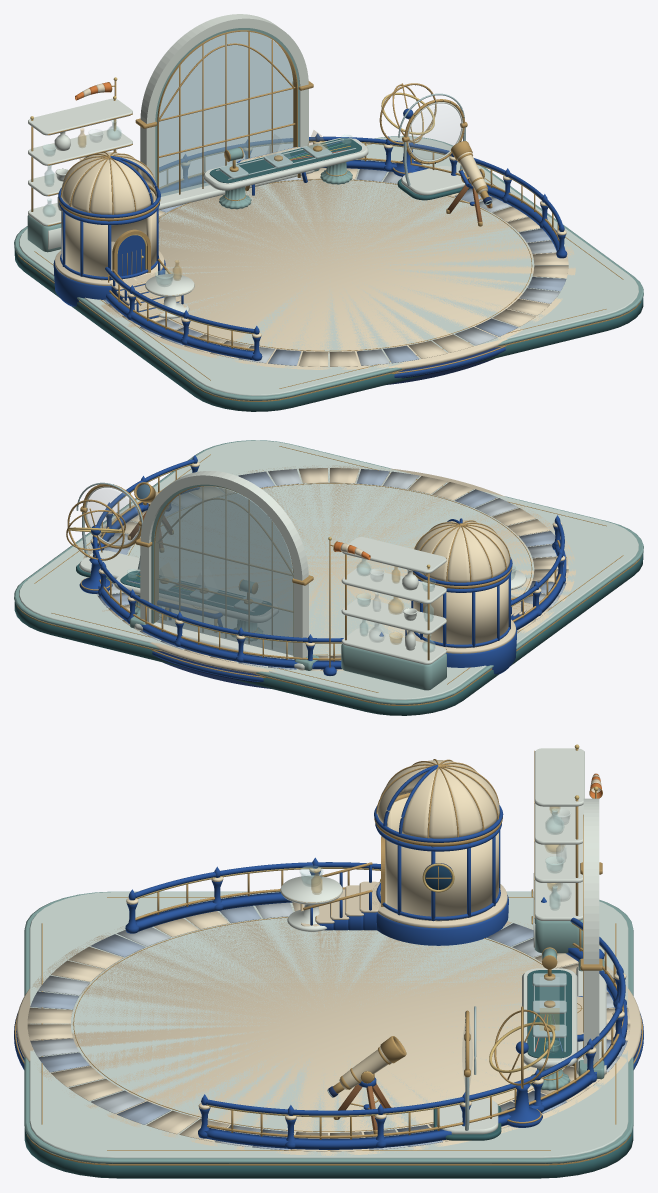
The model's file is math-worlds.glb.
3 views of the same model, one above another, from view 1: azimuth 30°, elevation 25°; view 2: azimuth 150°, elevation 25°; view 3: azimuth 270°, elevation 25° (orthographic). The views are drawn at different scales.
Visible parts, largest first — view 1: Sky_LayeredCircularTerrace_Mesh, Atelier_TerracedFoundation_Mesh, Atelier_ArchitecturalArchedWindow_Mesh, Sky_SideDomePavilion_Mesh, Sky_RearHalfBalustrade_Mesh, Atelier_CurvedCabinetAndGlassware_Mesh, Atelier_OpticalWorkBench_Mesh, Atelier_GimbalLensAndStand_Mesh, Atelier_SideCuriosityTable_Mesh, Sky_ArmillarySphere_Mesh, Sky_PavilionApproachSteps_Mesh, Sky_TelescopeOpticalTube_Mesh (+1 smaller); view 2: Atelier_TerracedFoundation_Mesh, Atelier_ArchitecturalArchedWindow_Mesh, Sky_LayeredCircularTerrace_Mesh, Atelier_CurvedCabinetAndGlassware_Mesh, Sky_SideDomePavilion_Mesh, Sky_RearHalfBalustrade_Mesh, Atelier_GimbalLensAndStand_Mesh, Atelier_OpticalWorkBench_Mesh, Sky_ArmillarySphere_Mesh, Sky_StaticWindsock_Mesh, Sky_PerimeterChartDesk_Mesh, Sky_TelescopeOpticalTube_Mesh; view 3: Sky_LayeredCircularTerrace_Mesh, Atelier_TerracedFoundation_Mesh, Sky_SideDomePavilion_Mesh, Sky_RearHalfBalustrade_Mesh, Atelier_CurvedCabinetAndGlassware_Mesh, Atelier_OpticalWorkBench_Mesh, Atelier_ArchitecturalArchedWindow_Mesh, Atelier_GimbalLensAndStand_Mesh, Sky_PavilionApproachSteps_Mesh, Sky_ArmillarySphere_Mesh, Atelier_SideCuriosityTable_Mesh, Sky_TelescopeOpticalTube_Mesh (+2 smaller).
Part boxes in pixels (x1,y1,x2,y2): Sky_LayeredCircularTerrace_Mesh: (101,168,575,384); Atelier_TerracedFoundation_Mesh: (14,136,643,411); Atelier_ArchitecturalArchedWindow_Mesh: (135,14,319,210); Sky_SideDomePavilion_Mesh: (53,151,165,306); Sky_RearHalfBalustrade_Mesh: (105,133,567,360); Atelier_CurvedCabinetAndGlassware_Mesh: (27,96,132,252); Atelier_OpticalWorkBench_Mesh: (203,130,368,209); Atelier_GimbalLensAndStand_Mesh: (397,93,470,200); Atelier_SideCuriosityTable_Mesh: (145,260,194,318); Sky_ArmillarySphere_Mesh: (379,83,436,176); Sky_PavilionApproachSteps_Mesh: (110,258,186,318); Sky_TelescopeOpticalTube_Mesh: (451,141,492,205); Atelier_TerracedFoundation_Mesh: (14,440,643,715); Atelier_ArchitecturalArchedWindow_Mesh: (130,471,319,670); Sky_LayeredCircularTerrace_Mesh: (83,465,575,688); Atelier_CurvedCabinetAndGlassware_Mesh: (341,537,446,690); Sky_SideDomePavilion_Mesh: (405,518,516,674); Sky_RearHalfBalustrade_Mesh: (90,455,566,669); Atelier_GimbalLensAndStand_Mesh: (76,482,143,582); Atelier_OpticalWorkBench_Mesh: (114,569,278,641); Sky_ArmillarySphere_Mesh: (66,499,125,593); Sky_StaticWindsock_Mesh: (323,537,370,675); Sky_PerimeterChartDesk_Mesh: (157,597,222,632); Sky_TelescopeOpticalTube_Mesh: (134,482,171,511); Sky_LayeredCircularTerrace_Mesh: (14,902,643,1155); Atelier_TerracedFoundation_Mesh: (24,891,633,1178); Sky_SideDomePavilion_Mesh: (372,759,508,945); Sky_RearHalfBalustrade_Mesh: (125,857,627,1149); Atelier_CurvedCabinetAndGlassware_Mesh: (531,744,584,953); Atelier_OpticalWorkBench_Mesh: (522,947,577,1090); Atelier_ArchitecturalArchedWindow_Mesh: (576,798,606,1079); Atelier_GimbalLensAndStand_Mesh: (433,1006,501,1140); Sky_PavilionApproachSteps_Mesh: (300,862,379,930); Sky_ArmillarySphere_Mesh: (489,1006,555,1127); Atelier_SideCuriosityTable_Mesh: (280,865,342,931); Sky_TelescopeOpticalTube_Mesh: (327,1036,406,1097).
Size of the model in its own units: 22.35 by 9.45 by 21.84.
